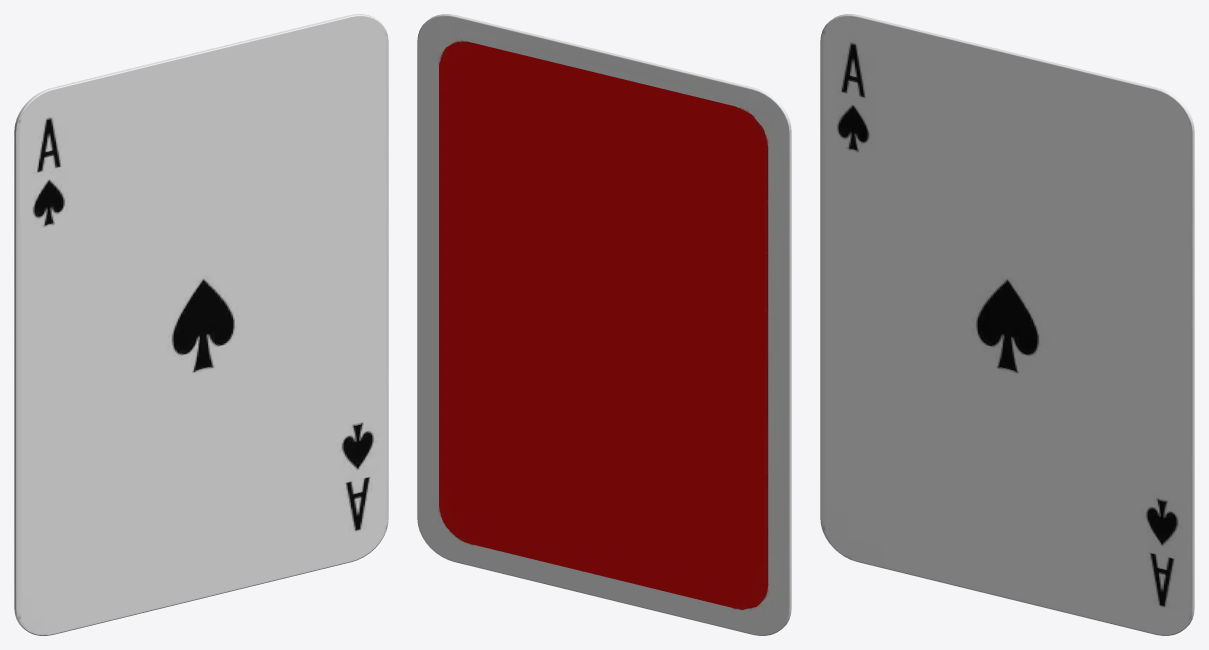
Rendered from spades_1.glb.
3 views of the same model, side by side, from view 1: azimuth 30°, elevation 25°; view 2: azimuth 150°, elevation 25°; view 3: azimuth 330°, elevation 25° (orthographic).
Parts seen in each view (by area): view 1: defaultMaterial.011; view 2: defaultMaterial.011; view 3: defaultMaterial.011.
Part boxes in pixels (bbox=[...]): defaultMaterial.011: bbox=[14, 14, 388, 635]; defaultMaterial.011: bbox=[417, 14, 791, 635]; defaultMaterial.011: bbox=[820, 14, 1194, 635].
Size of the model in its own units: 0.1408 by 0.1972 by 0.00111.
Materials: 1 (1 with a texture image).
